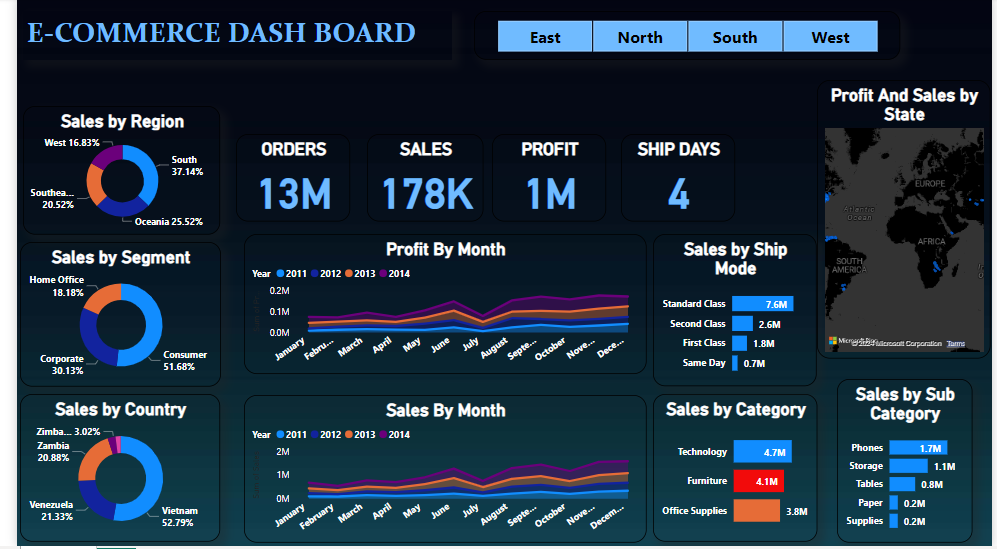

What the dashboard file says about the page in this screenshot:
{"tool":"powerbi","page":{"name":"Page 1","canvas":[1280,720],"ordinal":0},"visuals":[{"type":"card","title":" SALES","fields":{"Values":["Sum(Orders.Quantity)"]},"box":[459.2,178.6,153.1,114.8],"z":0},{"type":"card","title":" PROFIT","fields":{"Values":["Sum(Orders.Profit)"]},"box":[623.6,178.6,150.2,114.8],"z":1000},{"type":"card","title":"ORDERS","fields":{"Values":["Sum(Orders.Sales)"]},"box":[287.7,178.6,150.2,114.8],"z":2000},{"type":"card","title":" SHIP DAYS","fields":{"Values":["Avg(Orders.AVGdelvry)"]},"box":[793.7,178.6,150.2,114.8],"z":3000},{"type":"stackedAreaChart","title":"Profit By Month","fields":{"Category":["Orders.Order Date.Variation.Date Hierarchy.Month","Orders.Order Date.Variation.Date Hierarchy.Day"],"Y":["Sum(Orders.Profit)"],"Series":["Orders.Order Date.Variation.Date Hierarchy.Year"]},"box":[297.6,310.4,528.7,184.3],"z":4000},{"type":"stackedAreaChart","title":"Sales By Month","fields":{"Category":["Orders.Order Date.Variation.Date Hierarchy.Month","Orders.Order Date.Variation.Date Hierarchy.Day"],"Series":["Orders.Order Date.Variation.Date Hierarchy.Year"],"Y":["Sum(Orders.Sales)"]},"box":[297.6,521.6,528.7,194.2],"z":5000},{"type":"donutChart","title":"Sales by Region","fields":{"Category":["Orders.Region"],"Y":["Sum(Orders.Sales)"]},"box":[8.5,141.7,259.4,168.7],"z":6000},{"type":"donutChart","title":"Sales by Segment","fields":{"Y":["Sum(Orders.Sales)"],"Category":["Orders.Segment"]},"box":[4.3,320.3,263.6,189.9],"z":7000},{"type":"donutChart","title":"Sales by Country","fields":{"Y":["Sum(Orders.Sales)"],"Category":["Orders.Country"]},"box":[4.5,520.9,262.7,194],"z":8000},{"type":"clusteredBarChart","title":" Sales by Category","fields":{"Y":["Sum(Orders.Sales)"],"Category":["Orders.Category"]},"box":[835.8,520.9,216.4,194],"z":9000},{"type":"clusteredBarChart","title":" Sales by Sub  Category","fields":{"Y":["Sum(Orders.Sales)"],"Category":["Orders.Sub-Category"]},"box":[1077.6,500,177.6,214.9],"z":10000},{"type":"clusteredBarChart","title":" Sales by Ship Mode","fields":{"Y":["Sum(Orders.Sales)"],"Category":["Orders.Ship Mode"]},"box":[836.2,310.4,215.4,199.8],"z":11000},{"type":"slicer","fields":{"Values":["Orders.Region"]},"box":[600.9,17,559.8,63.8],"z":12000},{"type":"map","title":"Profit And Sales by State","fields":{"Category":["Orders.State"],"Size":["Sum(Orders.Sales)"]},"box":[1051.7,107.7,228.2,365.7],"z":13000},{"type":"textbox","box":[8.5,17,562.7,63.8],"z":14000}]}

Visuals, with their boxes in screenshot pixels (x1, y1, x2, y2), scaled from the page's 1280x720 canvas onto the 997x549 screenshot:
" SALES" card: 358, 136, 477, 224
" PROFIT" card: 486, 136, 603, 224
"ORDERS" card: 224, 136, 341, 224
" SHIP DAYS" card: 618, 136, 735, 224
"Profit By Month" stackedAreaChart: 232, 237, 644, 377
"Sales By Month" stackedAreaChart: 232, 398, 644, 546
"Sales by Region" donutChart: 7, 108, 209, 237
"Sales by Segment" donutChart: 3, 244, 209, 389
"Sales by Country" donutChart: 4, 397, 208, 545
" Sales by Category" clusteredBarChart: 651, 397, 820, 545
" Sales by Sub  Category" clusteredBarChart: 839, 381, 978, 545
" Sales by Ship Mode" clusteredBarChart: 651, 237, 819, 389
slicer - Orders.Region: 468, 13, 904, 62
"Profit And Sales by State" map: 819, 82, 996, 361
textbox: 7, 13, 445, 62
